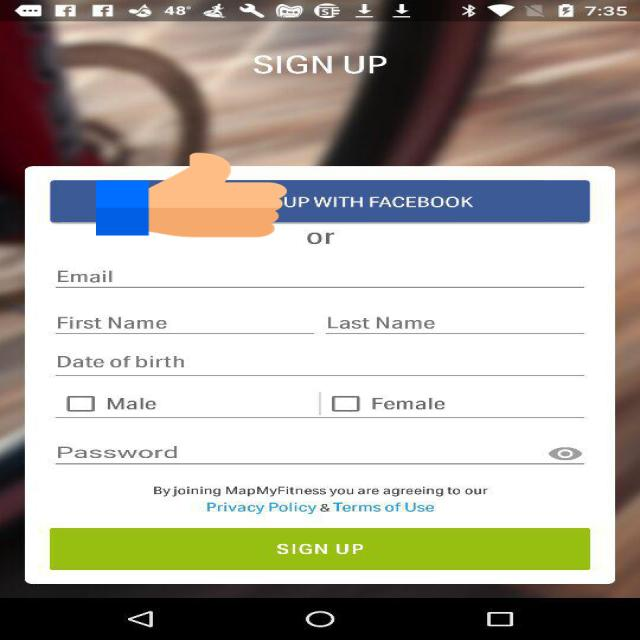privacy zuckering: (96, 151, 287, 239)
